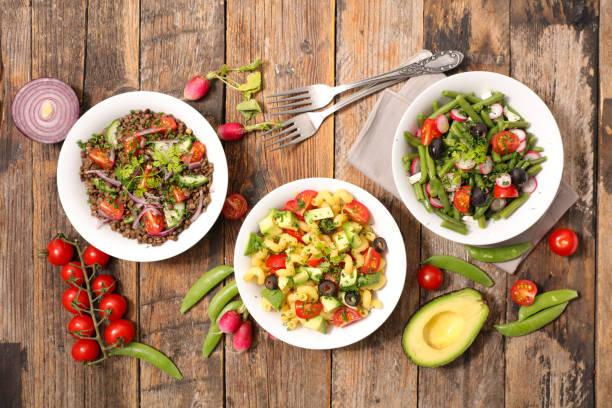Braised Crucian Carp: (391, 70, 564, 247), (233, 178, 406, 351), (56, 90, 226, 262)
